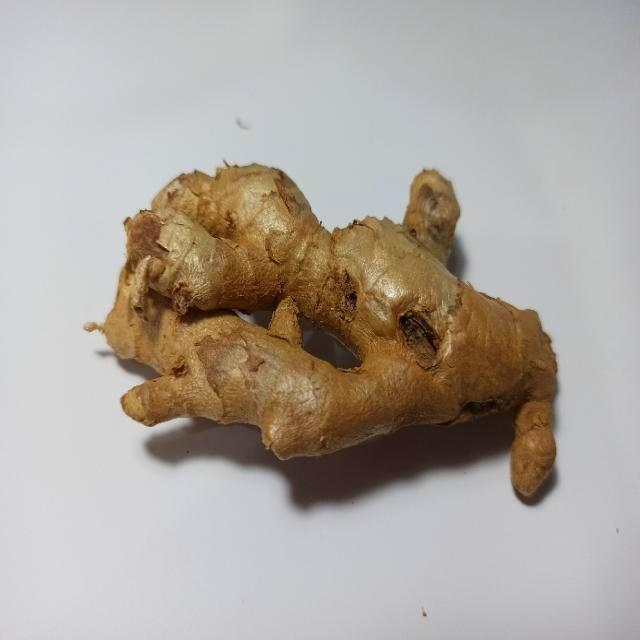ginger: (109, 170, 558, 504)
